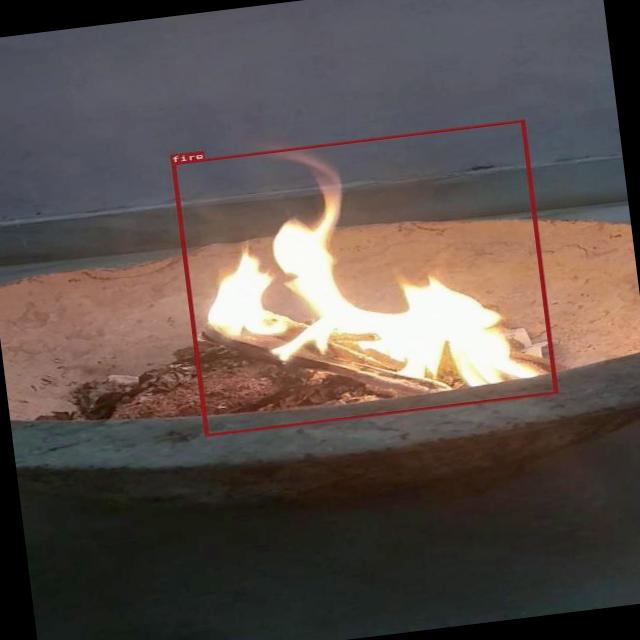fire: (169, 119, 556, 436)
